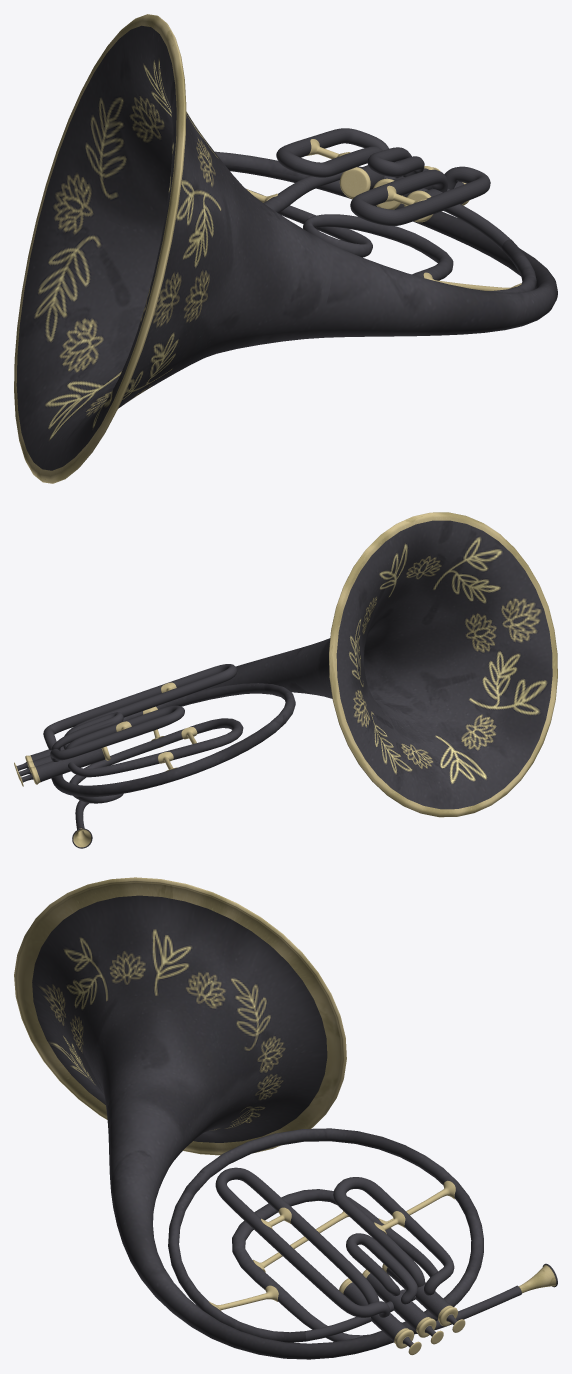
File: french_horn_with_piston_valves.glb
The picture shows the model from 3 angles, top to bottom: view 1: azimuth 30°, elevation 25°; view 2: azimuth 150°, elevation 25°; view 3: azimuth 270°, elevation 25°; orthographic projection. The views are drawn at different scales.
Visible parts, largest first — view 1: pCylinder20; view 2: pCylinder20; view 3: pCylinder20.
Part boxes in pixels (x1,y1,x2,y2): pCylinder20: (14,14,557,483); pCylinder20: (14,512,557,848); pCylinder20: (14,877,557,1359).
Bounding box in the file's own units: 0.2644 × 0.1721 × 0.2629.
3 materials, 3 textured.
